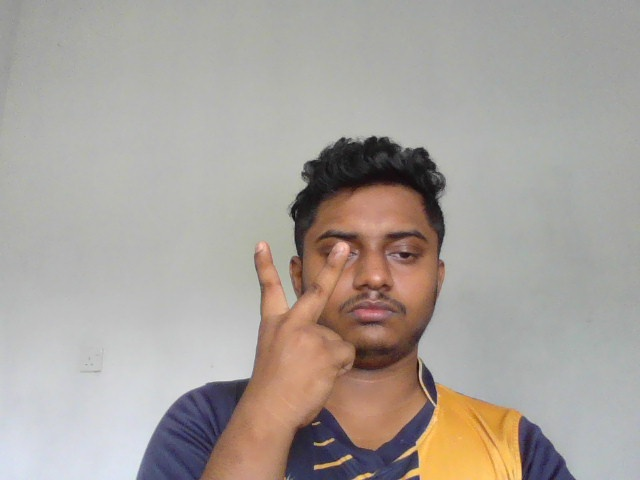See You: (229, 242, 368, 431)
